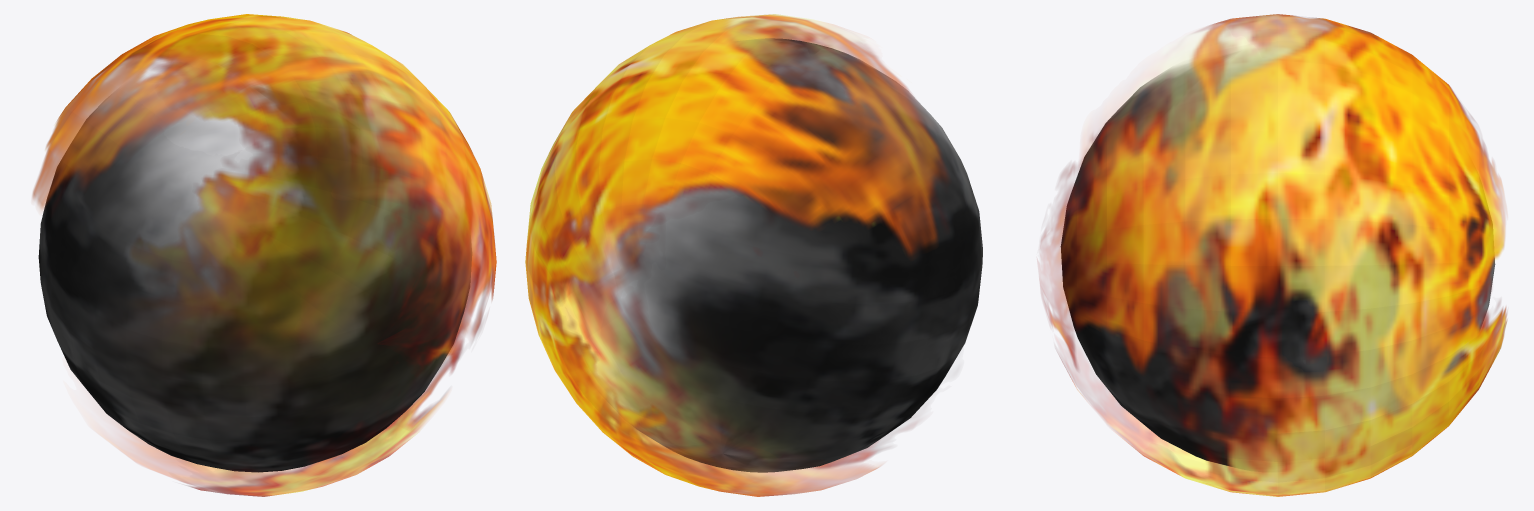
File: sphere_explosion2.glb
The picture shows the model from 3 angles, left to right: view 1: azimuth 30°, elevation 25°; view 2: azimuth 150°, elevation 25°; view 3: azimuth 270°, elevation 25°; orthographic projection.
Parts seen in each view (by area): view 1: Sphere; view 2: Sphere; view 3: Sphere.
Boxes of the visible parts, left/top/right/bottom form: Sphere: left=32, top=14, right=496, bottom=496; Sphere: left=525, top=14, right=982, bottom=496; Sphere: left=1040, top=14, right=1507, bottom=496.
Bounding box in the file's own units: 1.29 × 1.29 × 1.29.
Materials: 1 (1 with a texture image).
